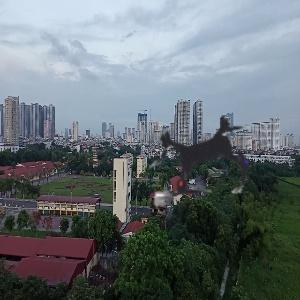drone: (114, 74, 294, 254)
